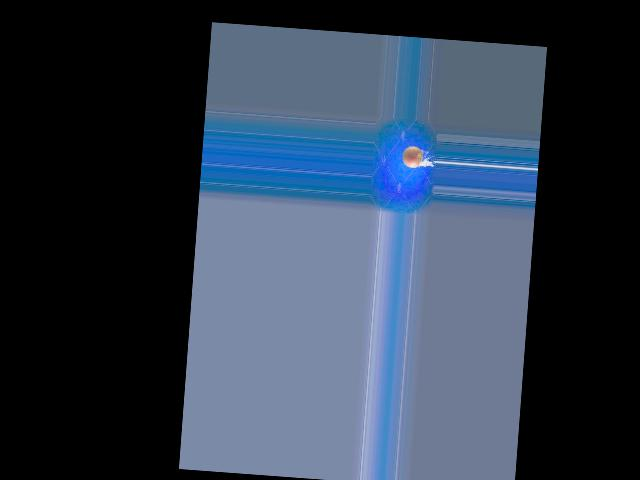tomato: (402, 145, 423, 168)
